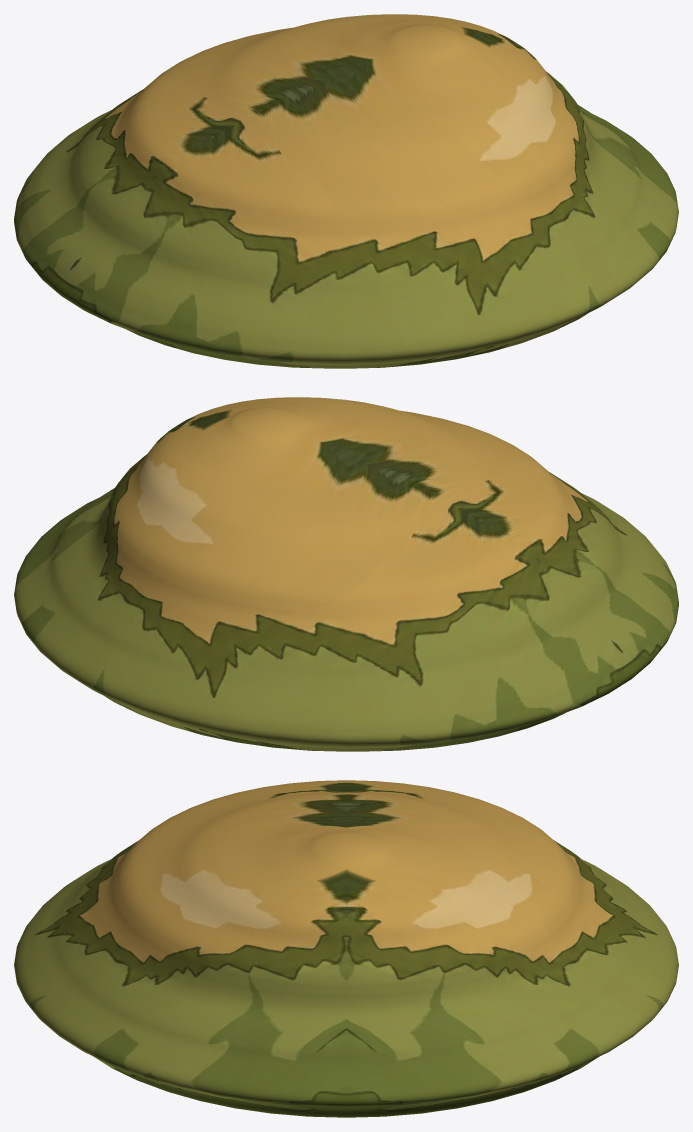
Rendered from pool_mound.glb.
3 renders of one model, top to bottom at view 1: azimuth 30°, elevation 25°; view 2: azimuth 150°, elevation 25°; view 3: azimuth 270°, elevation 25°, orthographic.
Visible parts, largest first — view 1: pool_mound; view 2: pool_mound; view 3: pool_mound.
Part boxes in pixels (x1,y1,x2,y2): pool_mound: [14, 14, 678, 368]; pool_mound: [14, 397, 678, 751]; pool_mound: [14, 780, 678, 1117].
Size of the model in its own units: 0.9896 by 0.375 by 0.9844.
Materials: 1 (1 with a texture image).
